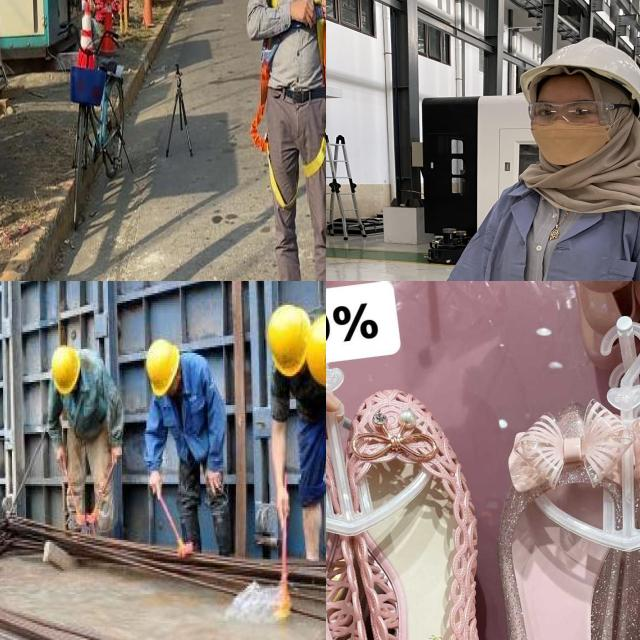Harness: (250, 56, 297, 209), (303, 129, 326, 178)
Sandals: (326, 371, 505, 640), (483, 359, 640, 640)
face_mask: (526, 98, 611, 164)
glasses: (521, 97, 634, 127)
hand_noglove: (271, 491, 293, 521), (104, 439, 127, 465), (145, 467, 165, 495), (202, 465, 223, 491), (49, 444, 70, 467), (316, 413, 326, 447)
head_helmet: (518, 35, 640, 105), (264, 302, 315, 380), (298, 306, 326, 395), (141, 335, 179, 397), (48, 343, 83, 393)
person: (421, 29, 640, 281), (129, 322, 241, 567), (38, 337, 135, 552), (257, 297, 326, 579)
